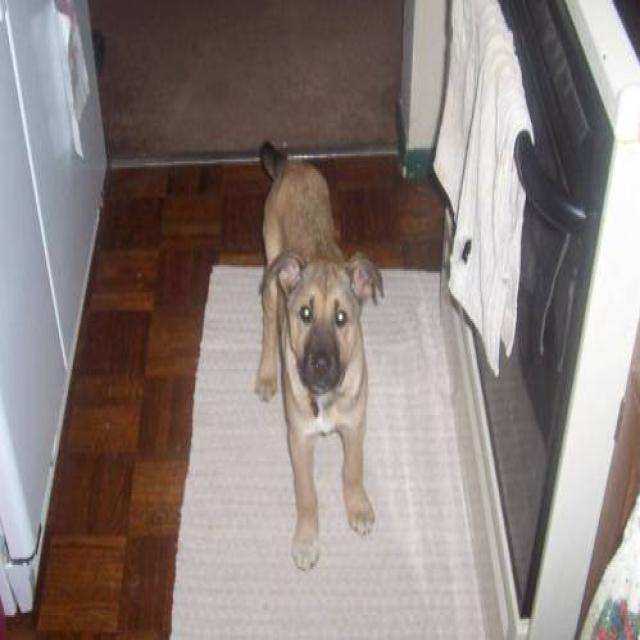dog: (252, 138, 384, 571)
